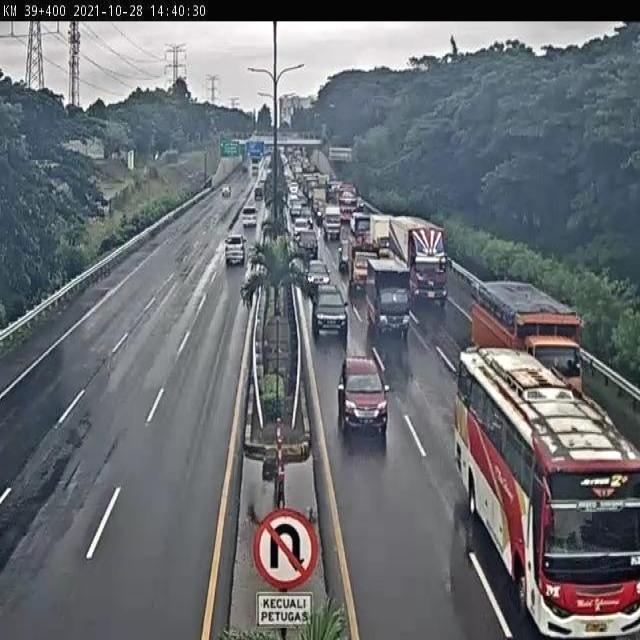Bus: (451, 341, 640, 640)
Car: (337, 357, 392, 433), (312, 284, 351, 340), (302, 257, 332, 294), (224, 234, 248, 266), (295, 231, 320, 258), (337, 240, 352, 274), (240, 205, 258, 226), (292, 217, 312, 235)
Truck: (470, 276, 597, 396), (388, 210, 455, 310), (362, 253, 417, 338), (347, 237, 380, 293), (369, 214, 398, 253)
